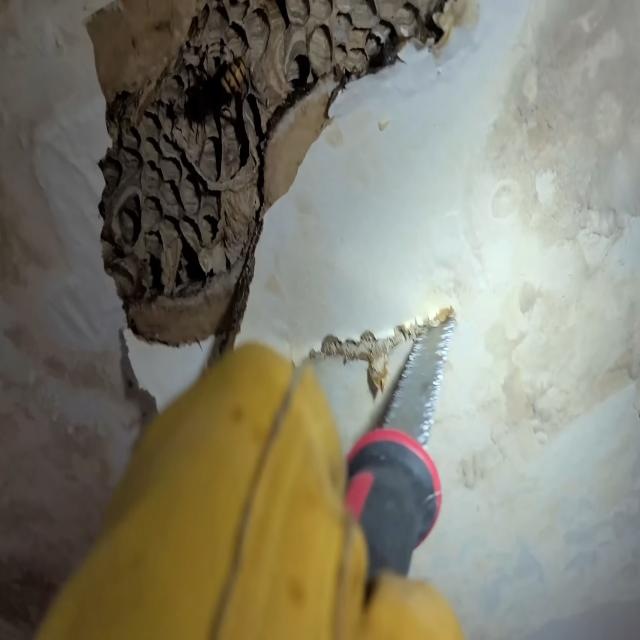Hornets: (188, 39, 249, 140)
